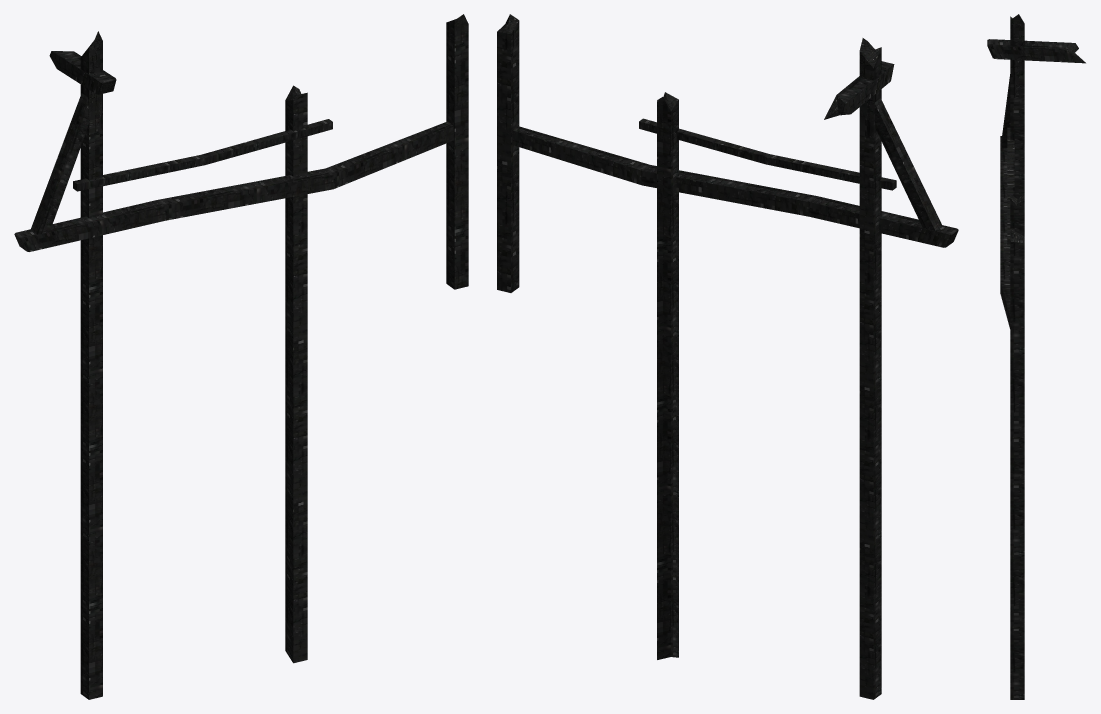
Rendered from 1_BURNT_01_6-transformed.glb.
3 renders of one model, left to right at view 1: azimuth 30°, elevation 25°; view 2: azimuth 150°, elevation 25°; view 3: azimuth 270°, elevation 25°, orthographic. The views are drawn at different scales.
Parts seen in each view (by area): view 1: default; view 2: default; view 3: default.
Boxes of the visible parts, box(x1,y1,x2,y2) form: default: box(14, 14, 468, 699); default: box(497, 14, 958, 699); default: box(987, 14, 1085, 699).
Size of the model in its own units: 8.31 by 11.85 by 1.78.
1 material, 1 textured.
